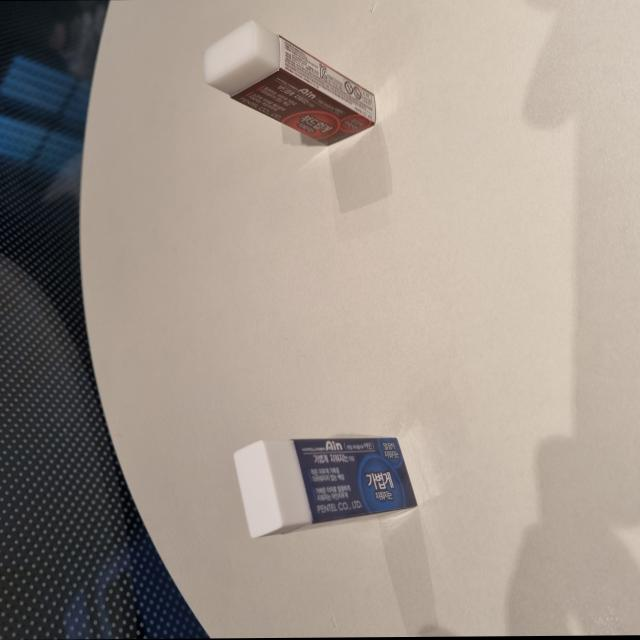blue: (229, 426, 423, 541)
red: (200, 16, 376, 147)
